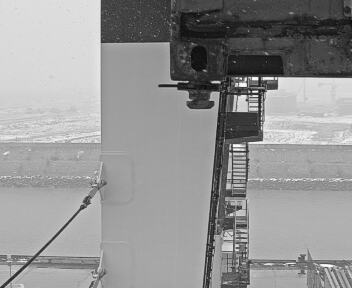twist_lock_1: (169, 72, 226, 117)
